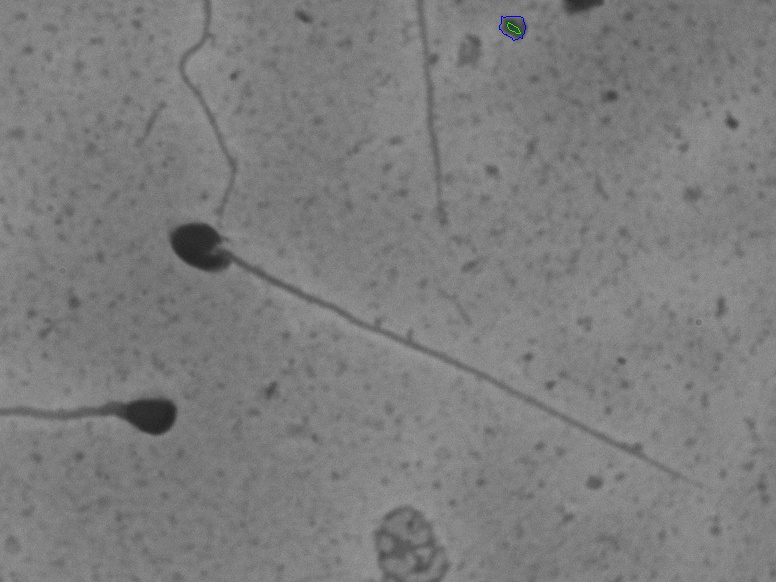Abnormal: (159, 192, 698, 378), (17, 355, 195, 462)
